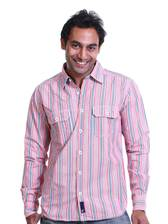clothoes: (19, 62, 154, 217)
